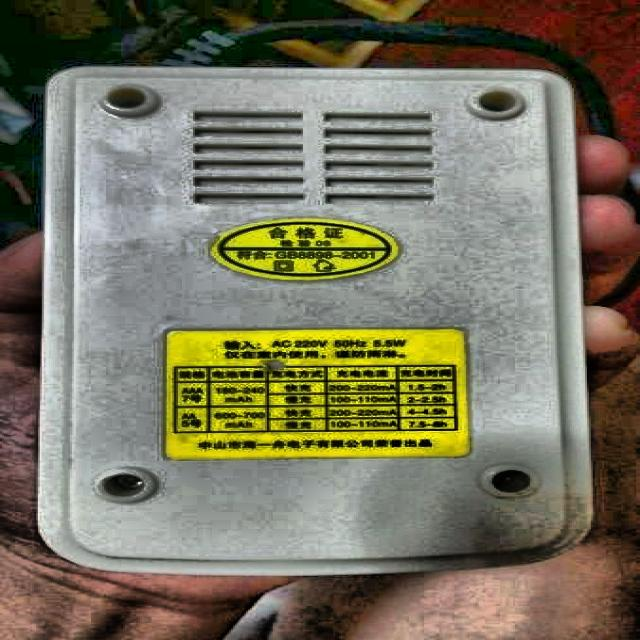Non-Valuable Waste - Batteries: (40, 68, 590, 574)
